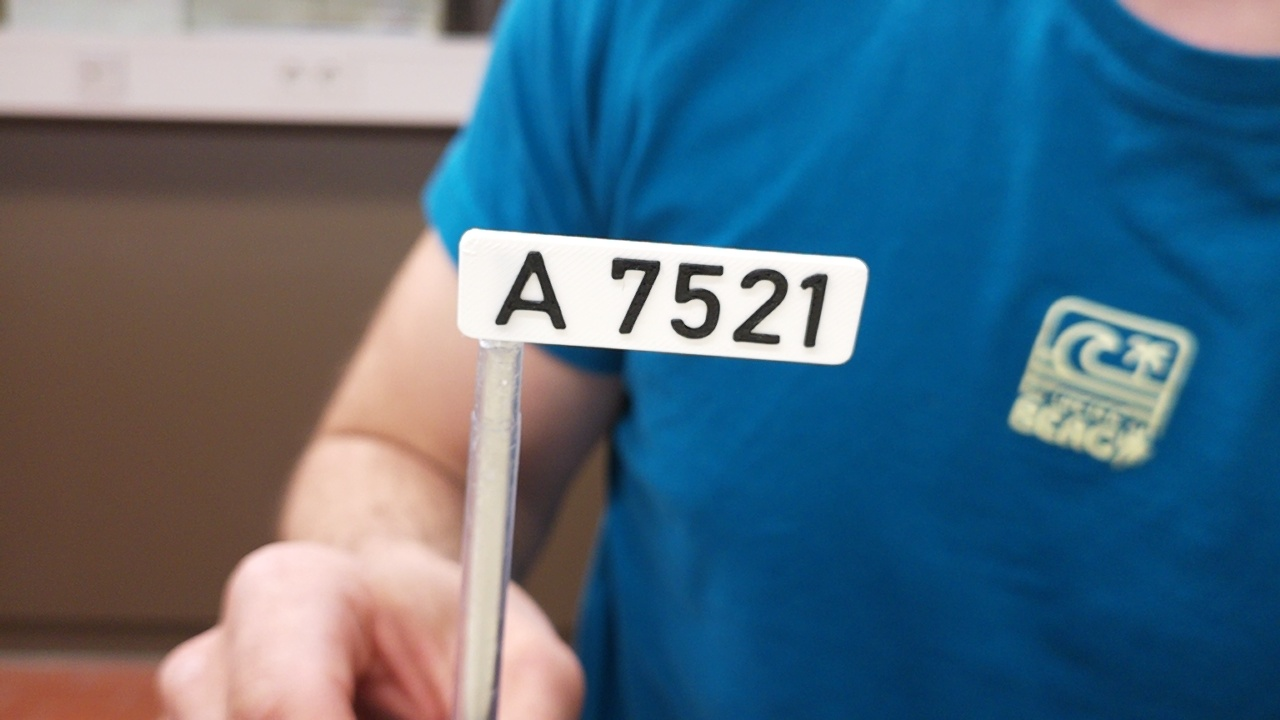license_plate: (455, 224, 872, 368)
